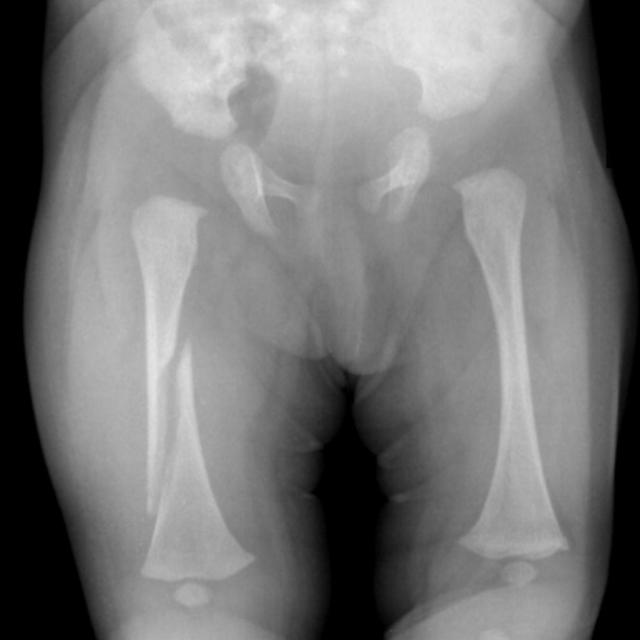fracture: (146, 339, 192, 522)
